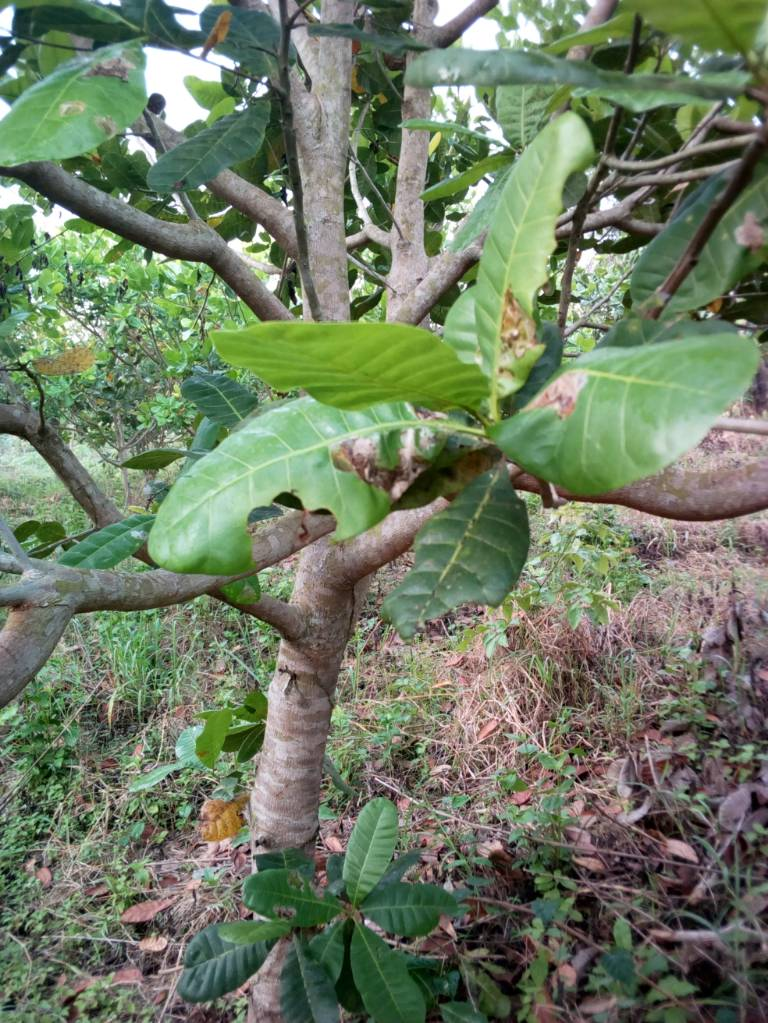Dysdercus wolkerii: (482, 311, 768, 491), (469, 103, 591, 392)
